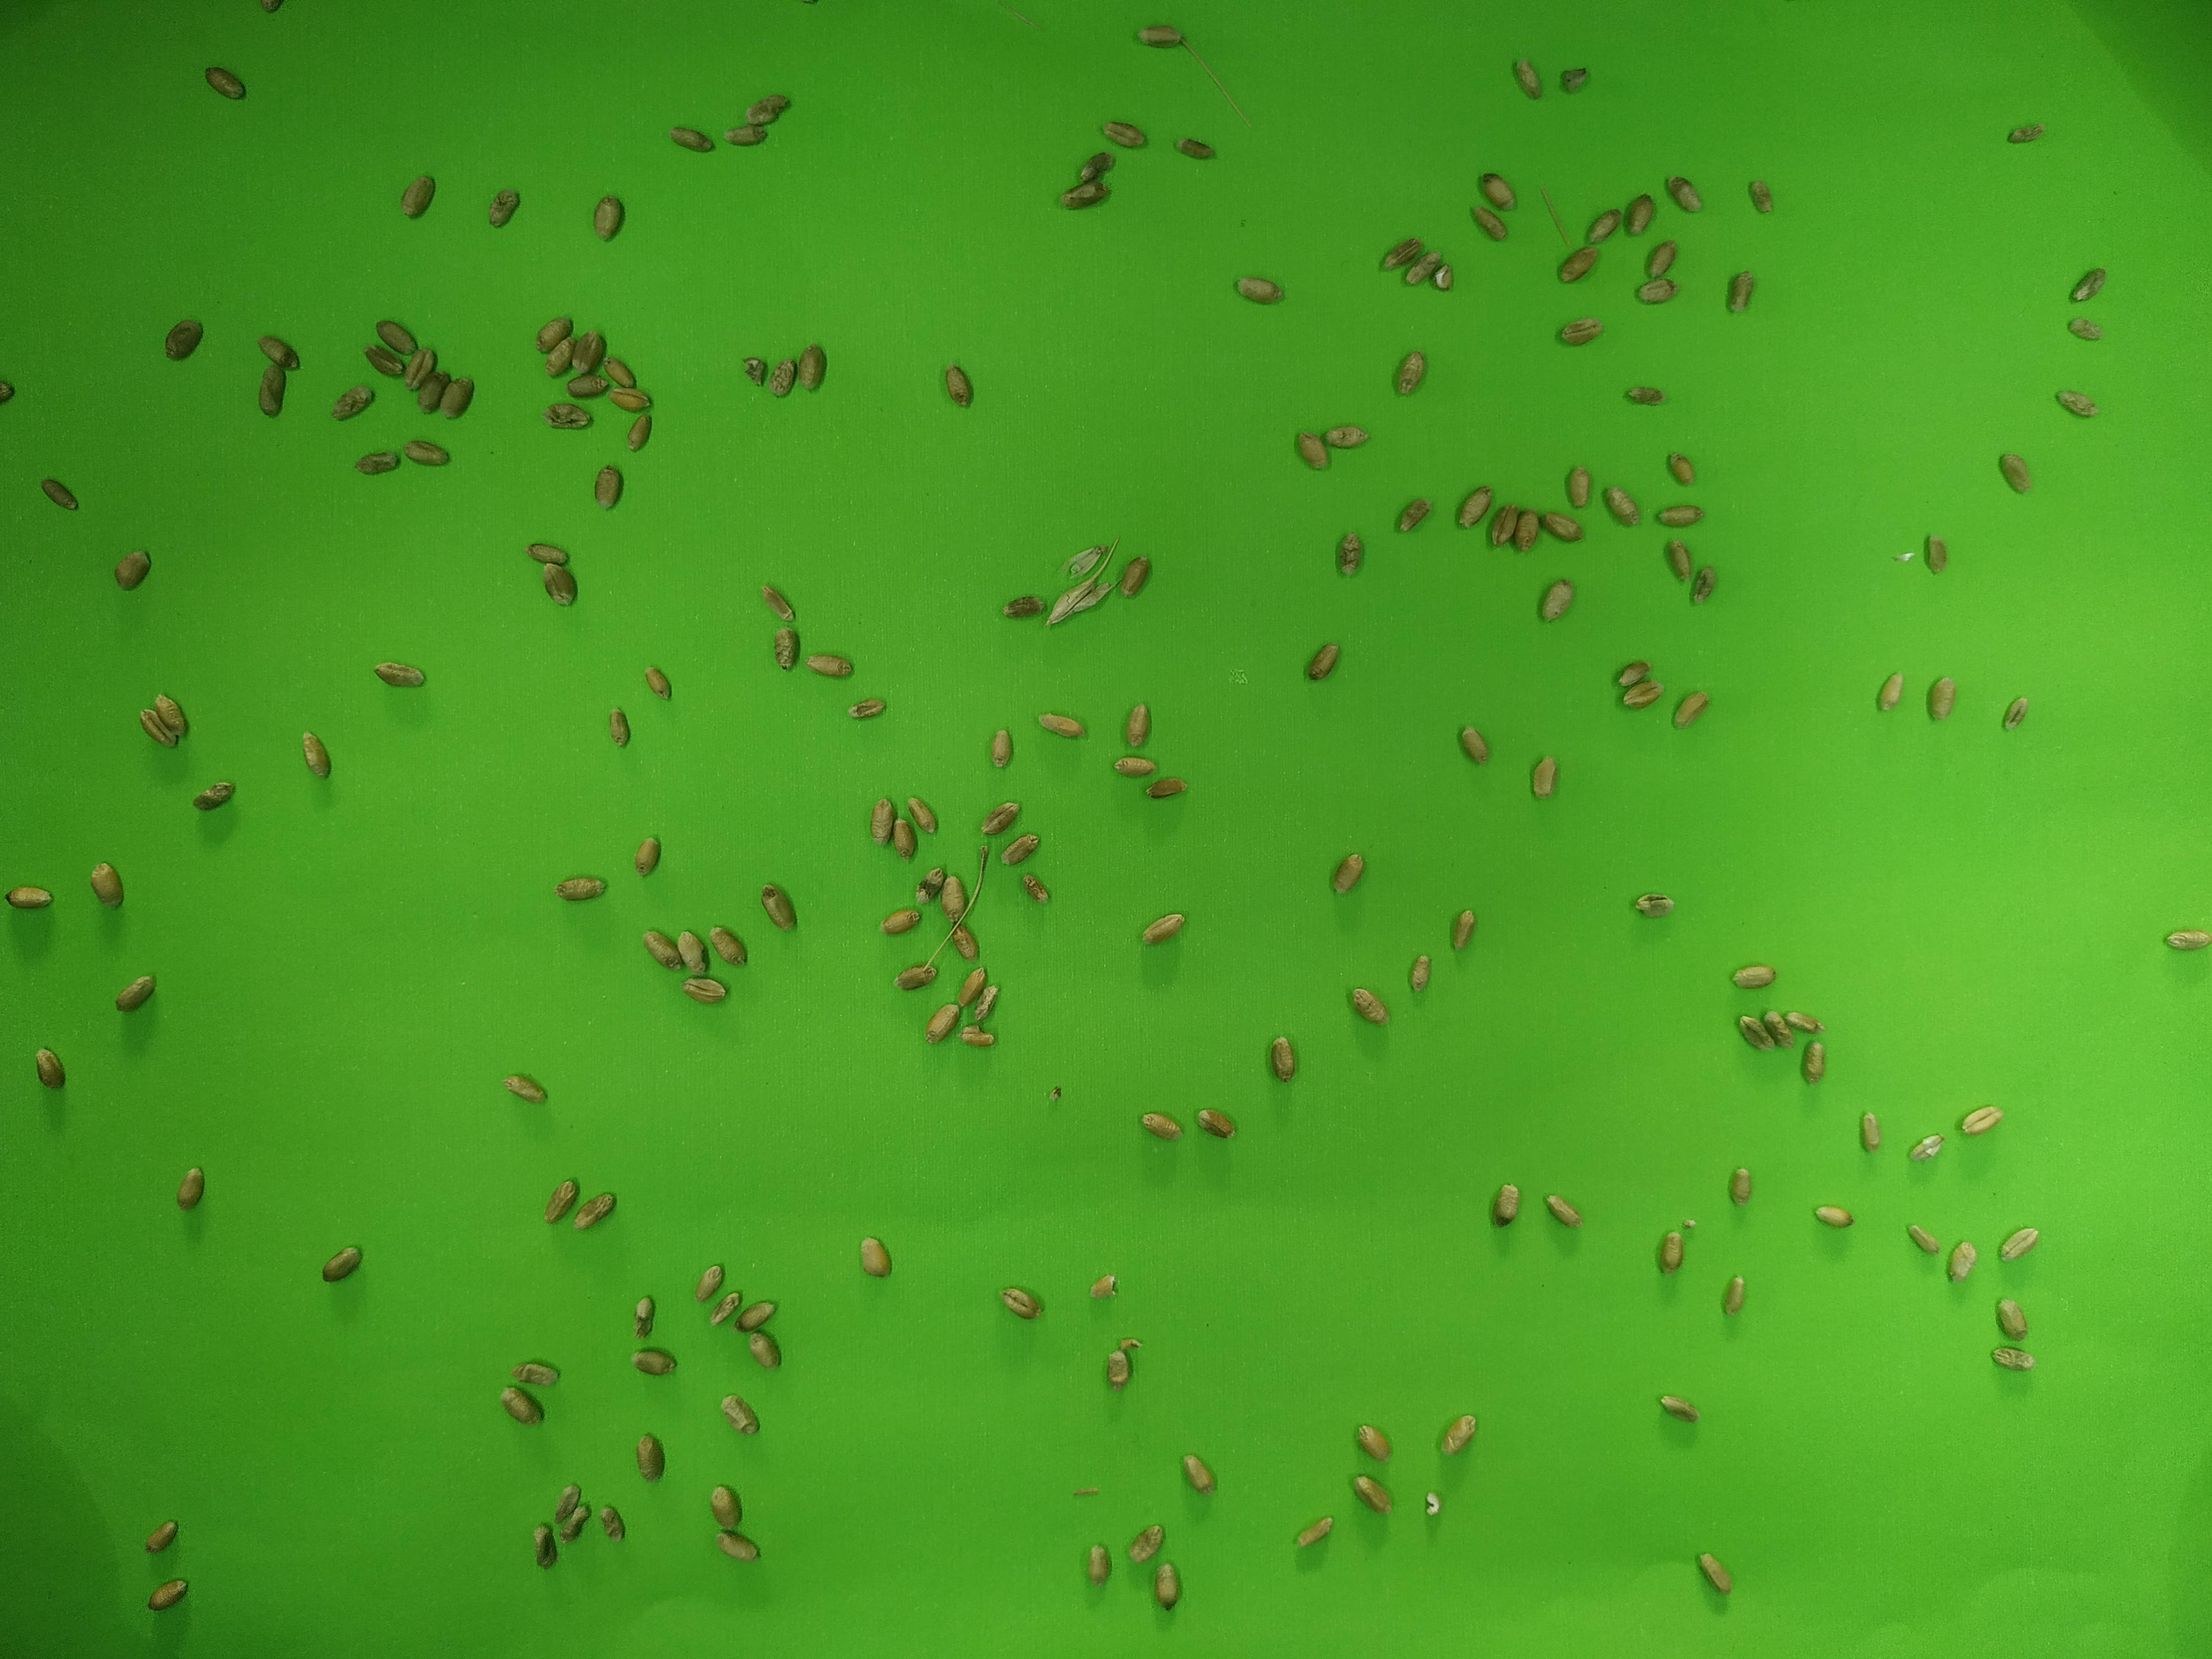bueno: (540, 1173, 580, 1226), (497, 1381, 545, 1425), (758, 880, 796, 933), (572, 1188, 617, 1234), (641, 928, 685, 972), (116, 969, 159, 1014), (571, 330, 609, 380), (1139, 910, 1188, 947), (591, 461, 625, 514), (323, 1242, 365, 1284), (1537, 575, 1575, 620), (708, 922, 747, 968), (1583, 207, 1624, 249), (137, 708, 180, 748), (255, 366, 288, 418), (373, 319, 420, 354), (592, 196, 627, 244), (1392, 348, 1429, 394), (111, 547, 150, 589), (503, 1072, 549, 1108), (857, 1232, 893, 1278), (923, 1002, 961, 1046), (87, 862, 123, 909), (1350, 988, 1391, 1029), (1724, 266, 1758, 314), (1601, 483, 1640, 526), (1455, 483, 1493, 526), (1129, 1519, 1166, 1563), (1444, 1411, 1480, 1456), (1488, 501, 1522, 549), (300, 729, 332, 781), (174, 1163, 206, 1214), (1331, 849, 1365, 896), (1997, 451, 2033, 496), (719, 1395, 758, 1436), (1696, 1551, 1731, 1597), (1480, 169, 1518, 211), (796, 341, 828, 391), (1536, 513, 1585, 545), (1556, 247, 1599, 284), (1293, 1513, 1335, 1550), (369, 659, 424, 688), (442, 373, 475, 421), (200, 67, 246, 101), (543, 562, 578, 606), (415, 368, 450, 413), (1653, 1390, 1701, 1422), (997, 1283, 1040, 1319), (1350, 1472, 1390, 1510), (406, 345, 439, 392), (2001, 1225, 2040, 1264), (35, 1045, 67, 1091), (717, 1530, 763, 1563), (635, 1429, 664, 1481), (154, 693, 189, 736), (1181, 1451, 1216, 1494), (629, 1347, 677, 1378), (1995, 1295, 2026, 1342), (1652, 503, 1707, 530), (982, 797, 1021, 836), (1470, 202, 1507, 242), (556, 874, 612, 901), (536, 314, 573, 354), (257, 335, 299, 370), (673, 929, 706, 974), (1002, 828, 1039, 868), (1195, 1105, 1239, 1139), (1674, 690, 1711, 730), (942, 362, 973, 409), (1729, 961, 1778, 990), (2052, 388, 2099, 419), (1032, 711, 1083, 740), (1155, 1559, 1183, 1610), (400, 438, 450, 467), (2070, 266, 2108, 305), (1961, 1103, 2005, 1136), (1352, 1421, 1389, 1460), (1624, 190, 1654, 238), (869, 795, 895, 849), (148, 1579, 189, 1614), (738, 1298, 780, 1332), (1564, 463, 1595, 509), (1512, 55, 1543, 101), (1236, 274, 1282, 305), (1665, 175, 1701, 214), (1646, 237, 1679, 279), (1297, 426, 1330, 469), (633, 831, 663, 878), (362, 344, 406, 376), (1457, 723, 1490, 765), (709, 1484, 741, 1528), (1623, 677, 1665, 710), (1271, 1031, 1297, 1084), (1310, 639, 1343, 680), (1124, 700, 1151, 749), (1656, 1230, 1687, 1275), (1489, 1183, 1520, 1228), (1926, 675, 1955, 722), (147, 1513, 179, 1556), (1123, 551, 1151, 599), (806, 651, 853, 680), (891, 961, 938, 989), (1989, 1344, 2037, 1373), (1100, 119, 1147, 148), (609, 383, 651, 414), (1664, 538, 1693, 584), (1950, 1239, 1979, 1285), (1542, 1194, 1580, 1228), (544, 338, 576, 380), (512, 1359, 561, 1386), (1636, 278, 1679, 307), (1725, 1163, 1754, 1208), (938, 872, 966, 920), (1135, 22, 1182, 49), (1557, 316, 1601, 345), (1450, 908, 1476, 957), (696, 1261, 726, 1302), (878, 906, 920, 936), (671, 125, 716, 153), (680, 980, 728, 1006), (1321, 423, 1368, 450), (1876, 669, 1905, 712), (556, 1479, 584, 1524), (606, 354, 637, 393), (4, 885, 56, 909), (1102, 1348, 1131, 1390), (1084, 1542, 1112, 1586), (624, 413, 654, 453), (1137, 1112, 1181, 1139), (2162, 928, 2210, 953), (905, 795, 937, 833), (525, 539, 570, 565), (40, 478, 76, 511), (1812, 1203, 1856, 1229), (2002, 693, 2030, 735), (962, 963, 989, 1005), (1408, 951, 1433, 997), (1144, 773, 1186, 800), (893, 816, 919, 859), (990, 726, 1016, 769), (1802, 1036, 1826, 1083), (1666, 450, 1697, 486), (749, 1331, 780, 1366), (1514, 508, 1538, 554), (847, 695, 890, 719), (1784, 1009, 1824, 1035), (643, 663, 672, 700), (566, 376, 613, 398), (1613, 658, 1651, 686), (1172, 135, 1214, 160), (604, 707, 629, 748), (1908, 1134, 1944, 1161), (1723, 1272, 1746, 1316), (1747, 175, 1773, 215), (1112, 755, 1154, 778), (725, 125, 769, 147), (1858, 1110, 1881, 1152), (2067, 316, 2102, 341), (1021, 875, 1048, 905)
danado: (1060, 176, 1113, 213), (540, 400, 594, 434), (166, 316, 205, 361), (402, 171, 436, 219), (333, 380, 374, 420), (486, 186, 522, 230), (745, 91, 790, 126), (1379, 236, 1424, 270), (353, 450, 402, 479), (1401, 249, 1441, 285), (530, 1520, 557, 1571), (1395, 496, 1430, 536), (1333, 530, 1363, 577), (1737, 1014, 1775, 1051), (196, 778, 237, 811), (1631, 890, 1676, 919), (915, 864, 945, 907), (1762, 1008, 1796, 1045), (1691, 564, 1720, 607), (769, 355, 799, 397), (972, 979, 1002, 1020), (773, 624, 799, 671), (633, 1292, 659, 1340), (1002, 593, 1044, 620), (566, 1501, 592, 1544), (598, 1501, 626, 1542), (1081, 150, 1116, 181), (712, 1288, 739, 1327), (1621, 383, 1666, 406), (2007, 121, 2047, 143)
impureza: (1045, 534, 1120, 629), (1182, 38, 1248, 122), (962, 842, 990, 923), (1540, 187, 1573, 249), (923, 917, 961, 968), (1062, 544, 1108, 580), (763, 583, 796, 619), (1557, 63, 1590, 94), (1116, 1334, 1145, 1352), (1422, 1490, 1441, 1516)
partido: (1922, 529, 1952, 575), (1531, 752, 1557, 799), (1907, 1222, 1942, 1253), (958, 1023, 998, 1048), (740, 356, 768, 388), (1088, 1272, 1121, 1298), (1432, 261, 1455, 294)
